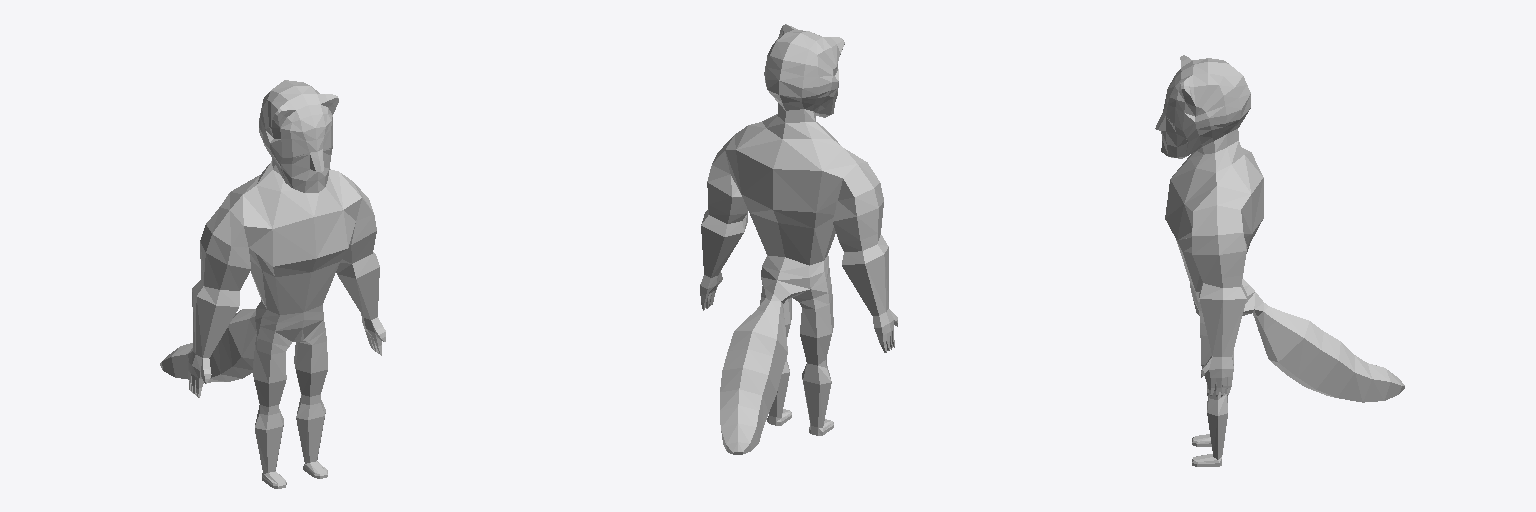
Rendered from racconman.obj.
3 renders of one model, left to right at view 1: azimuth 30°, elevation 25°; view 2: azimuth 150°, elevation 25°; view 3: azimuth 270°, elevation 25°, orthographic.
Parts seen in each view (by area): view 1: Cube; view 2: Cube; view 3: Cube.
Part boxes in pixels (left/top/right/bottom): Cube: left=160, top=80, right=385, bottom=488; Cube: left=700, top=24, right=897, bottom=454; Cube: left=1155, top=55, right=1404, bottom=466.
Bounding box in the file's own units: 4.72 × 9.42 × 5.46.